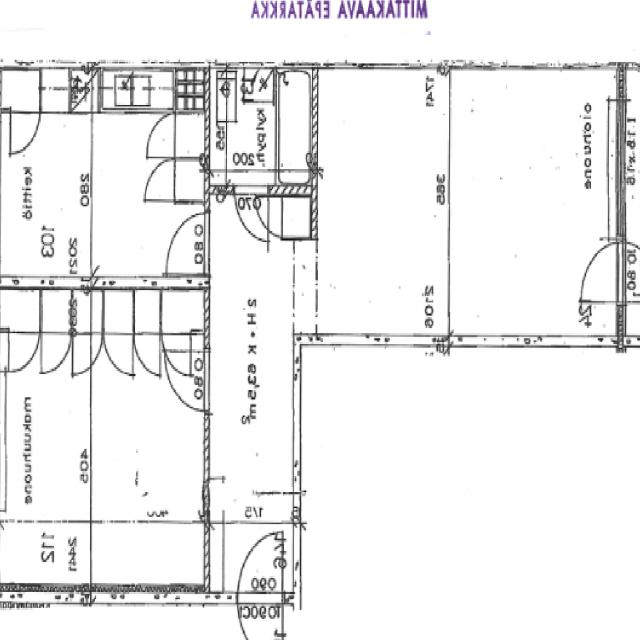door: (238, 526, 283, 606), (576, 242, 626, 303), (162, 213, 210, 275), (164, 352, 210, 411), (238, 592, 283, 640), (234, 186, 268, 246), (41, 330, 71, 379), (162, 331, 192, 378), (72, 331, 102, 378), (617, 241, 640, 302), (104, 330, 133, 378), (10, 330, 38, 378), (145, 113, 175, 156), (145, 158, 175, 201), (134, 330, 161, 375), (12, 108, 38, 153), (254, 198, 282, 238)
